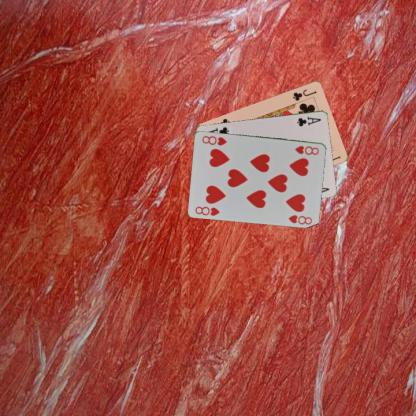8h: (192, 203, 221, 217), (292, 143, 320, 156)
Ac: (294, 114, 322, 128)
Jc: (290, 86, 318, 102)
